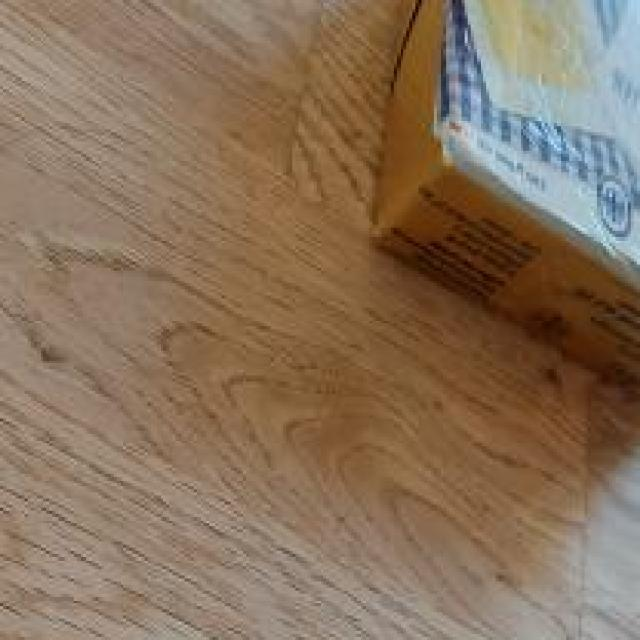butter: (366, 0, 640, 415)
